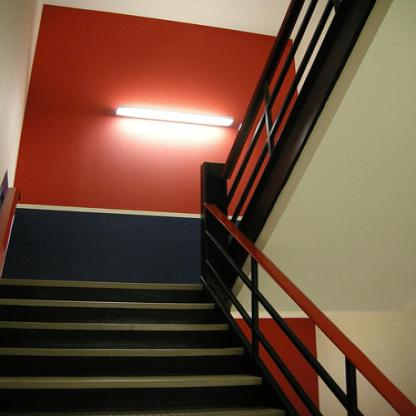stairs: (11, 272, 203, 416)
